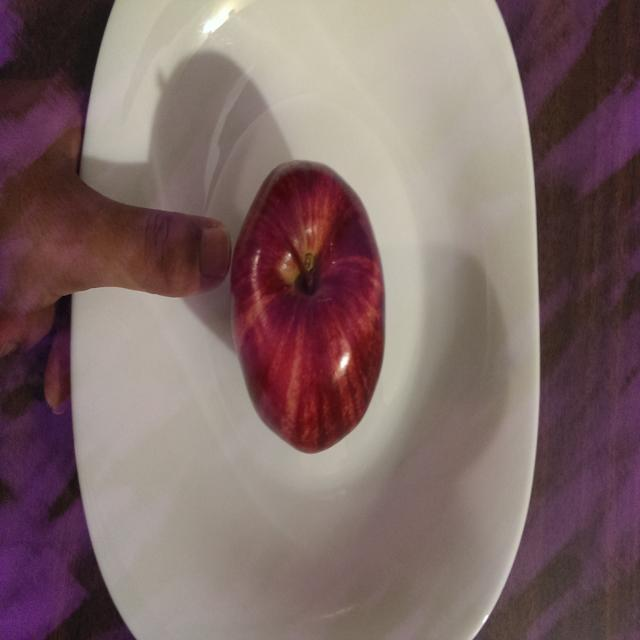Apple: (227, 156, 391, 460)
Finger: (126, 196, 234, 304)
